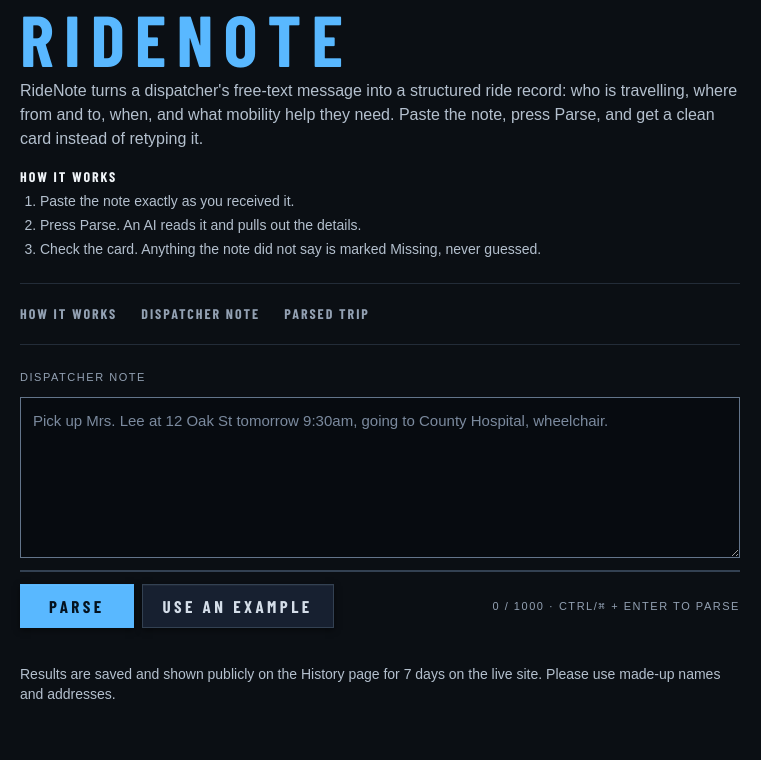
Test: Home page › shows the server's error message in an alert
Step 1. Type "Pick up Lee" into the text box labelled "Dispatcher note" → [380, 478], box [20, 397, 740, 558]
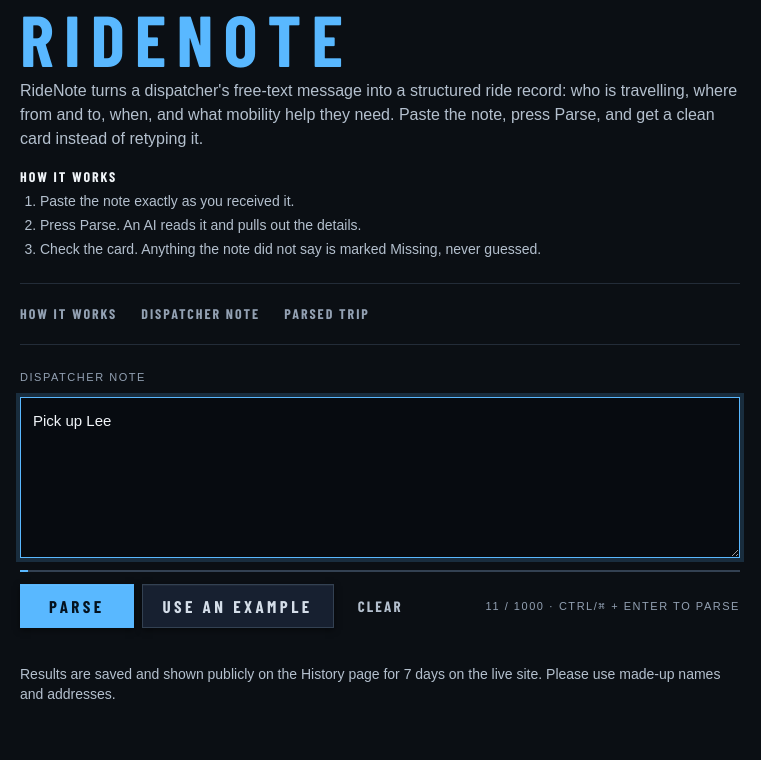
Step 2. Click the button "Parse" → [77, 606], box [20, 584, 134, 628]
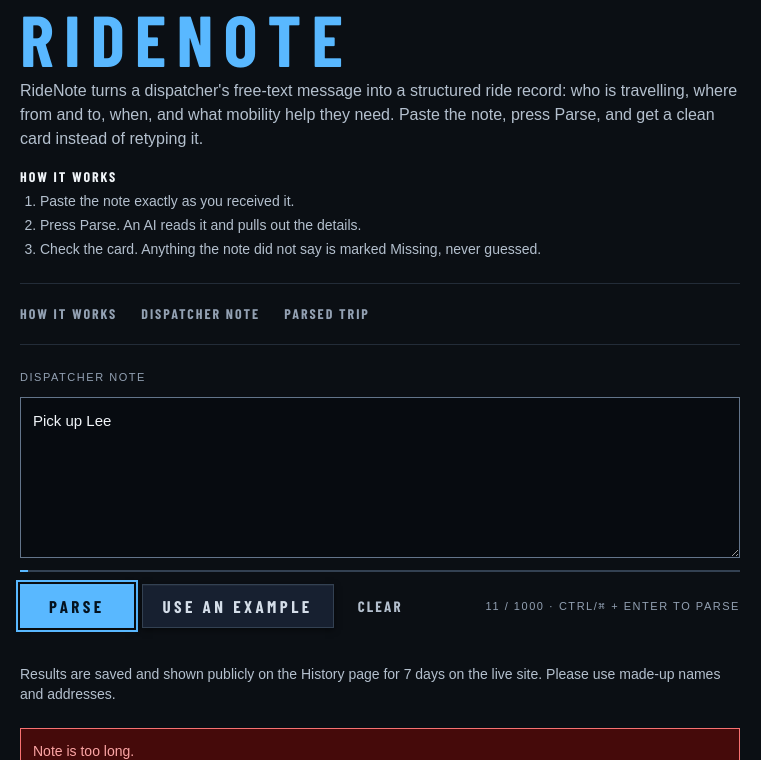
Check: the message reads "Note is too long.", box [33, 743, 134, 759]
